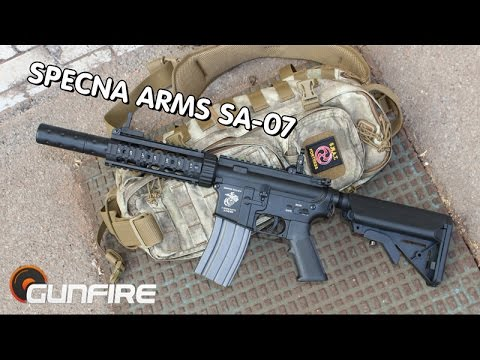m4_carbine: (204, 147, 336, 306)
